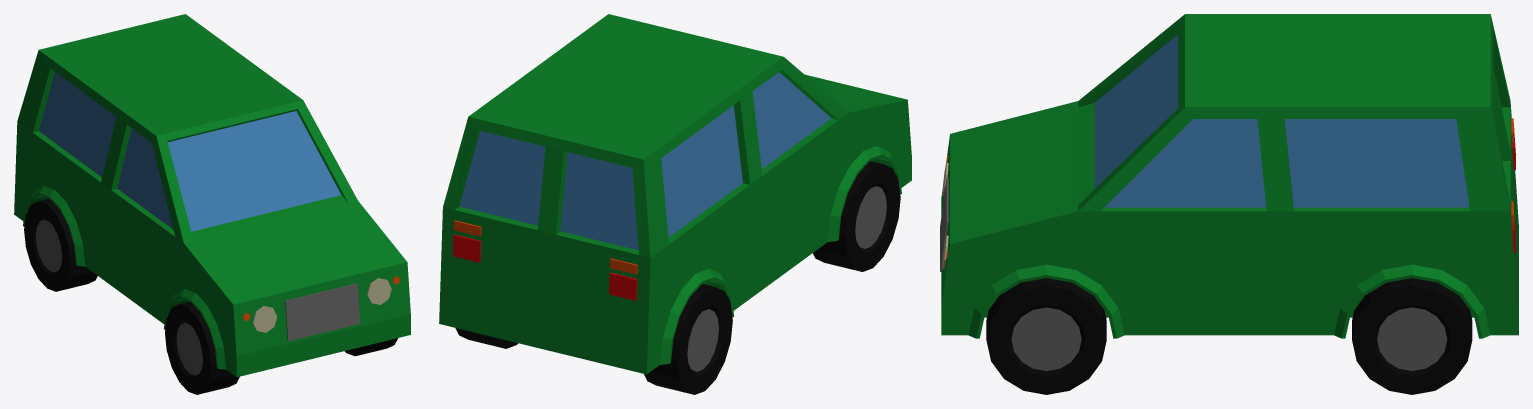
The model's file is car-microtransport-green.obj.
The picture shows the model from 3 angles, left to right: view 1: azimuth 30°, elevation 25°; view 2: azimuth 150°, elevation 25°; view 3: azimuth 270°, elevation 25°; orthographic projection. The views are drawn at different scales.
Visible parts, largest first — view 1: car-microtransport-green_Cube.597_carmaterial_green, car-microtransport-green_Cube.597_windows, car-microtransport-green_Cube.597_tires, car-microtransport-green_Cube.597_metal, car-microtransport-green_Cube.597_lights; view 2: car-microtransport-green_Cube.597_carmaterial_green, car-microtransport-green_Cube.597_windows, car-microtransport-green_Cube.597_tires, car-microtransport-green_Cube.597_metal, car-microtransport-green_Cube.597_lights.red, car-microtransport-green_Cube.597_lights.orange; view 3: car-microtransport-green_Cube.597_carmaterial_green, car-microtransport-green_Cube.597_windows, car-microtransport-green_Cube.597_tires, car-microtransport-green_Cube.597_metal.
Boxes of the visible parts, left/top/right/bottom form: car-microtransport-green_Cube.597_carmaterial_green: left=14, top=14, right=410, bottom=377; car-microtransport-green_Cube.597_windows: left=39, top=72, right=341, bottom=231; car-microtransport-green_Cube.597_tires: left=24, top=199, right=397, bottom=394; car-microtransport-green_Cube.597_metal: left=35, top=219, right=360, bottom=375; car-microtransport-green_Cube.597_lights: left=252, top=278, right=391, bottom=332; car-microtransport-green_Cube.597_carmaterial_green: left=439, top=14, right=911, bottom=374; car-microtransport-green_Cube.597_windows: left=459, top=72, right=831, bottom=249; car-microtransport-green_Cube.597_tires: left=455, top=161, right=900, bottom=394; car-microtransport-green_Cube.597_metal: left=687, top=186, right=886, bottom=371; car-microtransport-green_Cube.597_lights.red: left=452, top=234, right=637, bottom=300; car-microtransport-green_Cube.597_lights.orange: left=453, top=220, right=637, bottom=274; car-microtransport-green_Cube.597_carmaterial_green: left=941, top=14, right=1518, bottom=338; car-microtransport-green_Cube.597_windows: left=1094, top=34, right=1469, bottom=207; car-microtransport-green_Cube.597_tires: left=986, top=278, right=1472, bottom=394; car-microtransport-green_Cube.597_metal: left=940, top=177, right=1447, bottom=370.
Bounding box in the file's own units: 0.8967 × 0.9513 × 1.82.
